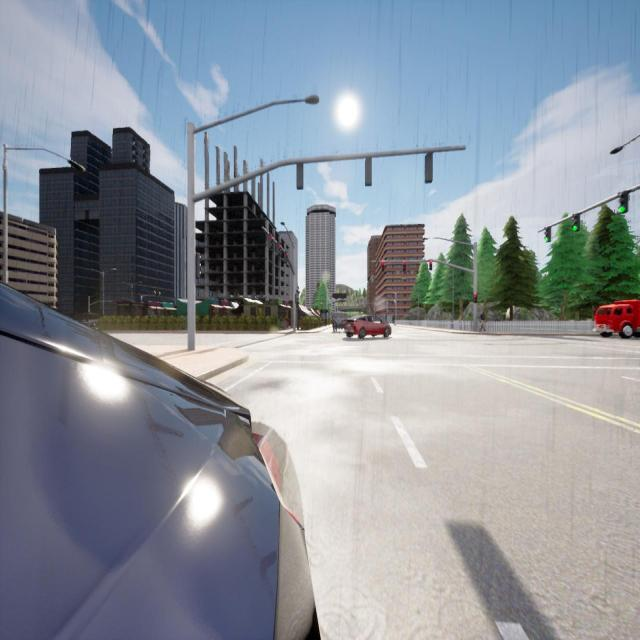Pedestrian: (479, 311, 486, 333)
Vehicle: (0, 283, 314, 638), (592, 298, 640, 339), (344, 314, 392, 339), (332, 310, 347, 332)
traffic_light: (425, 151, 433, 183), (618, 191, 628, 213), (296, 163, 304, 190), (365, 157, 372, 186), (196, 253, 202, 279), (572, 214, 580, 232), (545, 227, 551, 243), (268, 234, 272, 248), (284, 250, 288, 264), (276, 242, 280, 255), (474, 293, 477, 303), (403, 262, 406, 272), (295, 294, 298, 304), (430, 260, 432, 270), (382, 262, 384, 271)
